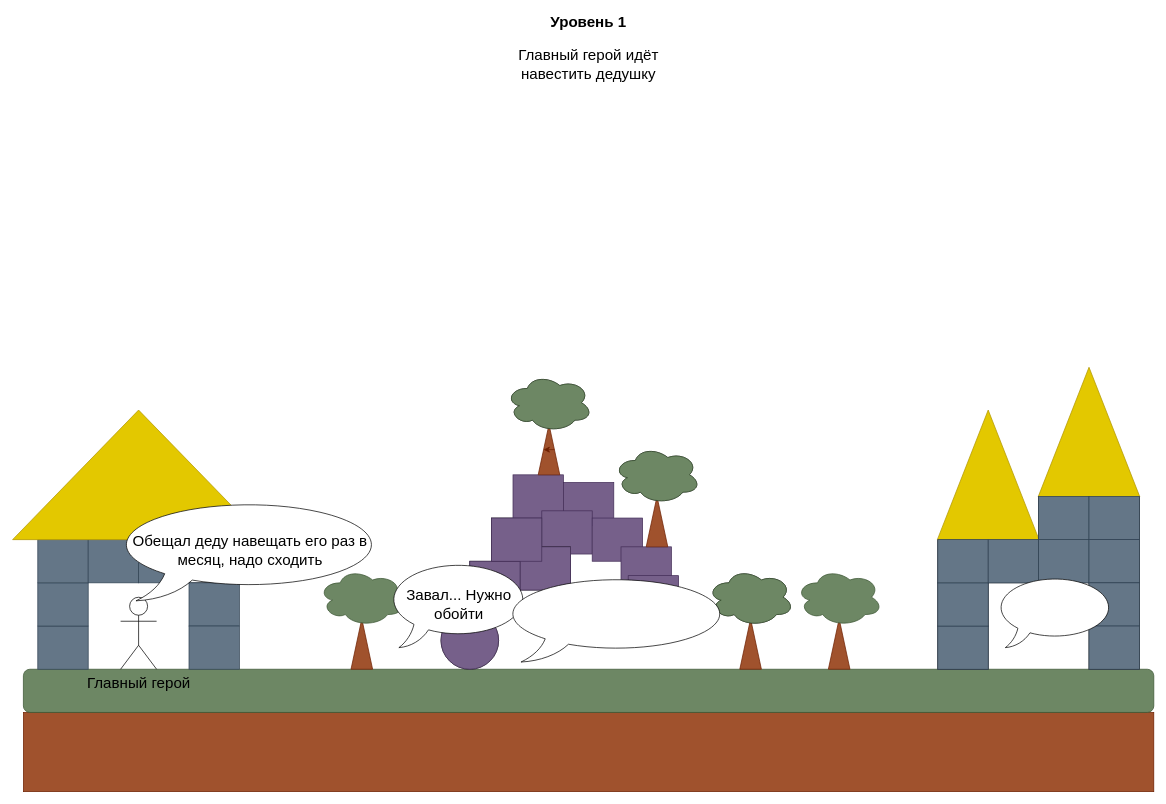
Some shapes in this 1166 by 804 pixel diagram are drawn without their labels. Here are the shapes that lost their labels. From the top down, the centre of each, then its label:
point 617,618: На стене выцарапано: "Нельзя дать им пройти.."
point 1055,611: А где дед?
